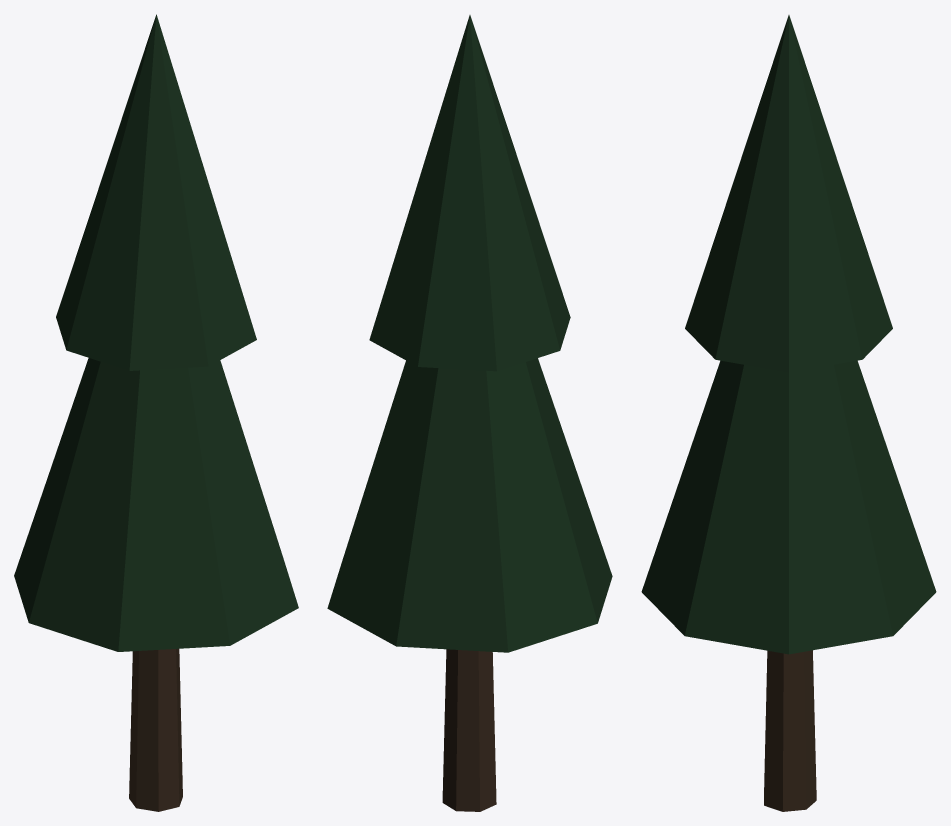
The model's file is ENV_Tree_Pine_A.glb.
The picture shows the model from 3 angles, left to right: view 1: azimuth 30°, elevation 25°; view 2: azimuth 150°, elevation 25°; view 3: azimuth 270°, elevation 25°; orthographic projection.
Visible parts, largest first — view 1: ENV_Tree_Pine_A_Crown, ENV_Tree_Pine_A_Top, ENV_Tree_Pine_A_Trunk; view 2: ENV_Tree_Pine_A_Crown, ENV_Tree_Pine_A_Top, ENV_Tree_Pine_A_Trunk; view 3: ENV_Tree_Pine_A_Crown, ENV_Tree_Pine_A_Top, ENV_Tree_Pine_A_Trunk.
Boxes of the visible parts, <box> form: ENV_Tree_Pine_A_Crown: <box>14,358,298,651</box>; ENV_Tree_Pine_A_Top: <box>56,14,256,370</box>; ENV_Tree_Pine_A_Trunk: <box>129,648,182,811</box>; ENV_Tree_Pine_A_Crown: <box>327,358,612,652</box>; ENV_Tree_Pine_A_Top: <box>369,15,570,371</box>; ENV_Tree_Pine_A_Trunk: <box>442,649,496,811</box>; ENV_Tree_Pine_A_Crown: <box>641,360,936,654</box>; ENV_Tree_Pine_A_Top: <box>685,15,892,372</box>; ENV_Tree_Pine_A_Trunk: <box>764,650,816,811</box>.
Size of the model in its own units: 3.4 by 10 by 3.4.
